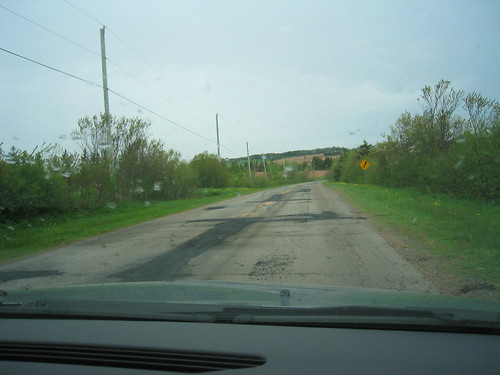road: (15, 188, 435, 321)
sign: (356, 158, 372, 170)
sky: (1, 1, 490, 125)
vegetation: (1, 153, 247, 242), (342, 134, 500, 221)
